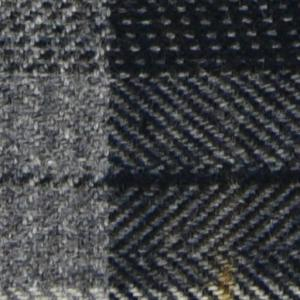Oil Stain: (215, 265, 243, 300)
